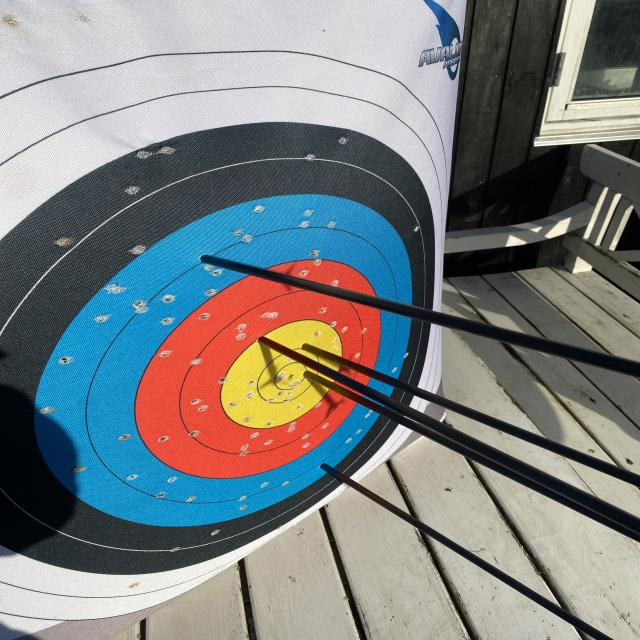Arrow_Blue: (192, 251, 228, 277), (316, 460, 340, 479)
Arrow_Yellow: (290, 364, 325, 388), (246, 330, 286, 349), (294, 339, 325, 361)
